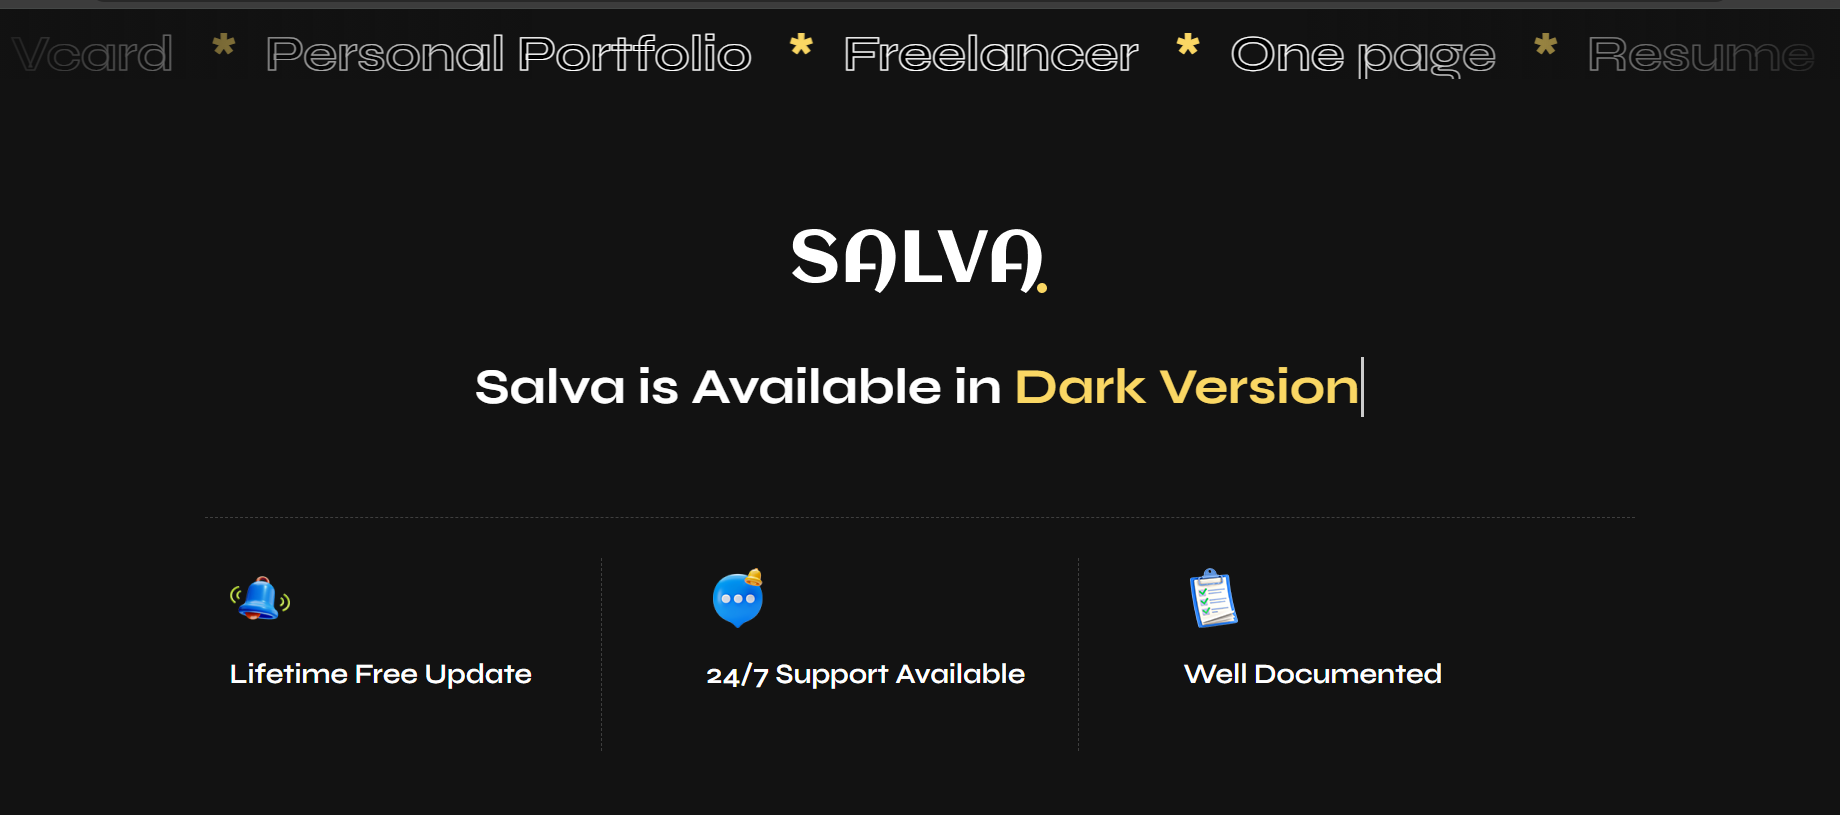menu-icon: (42, 490, 1807, 794)
